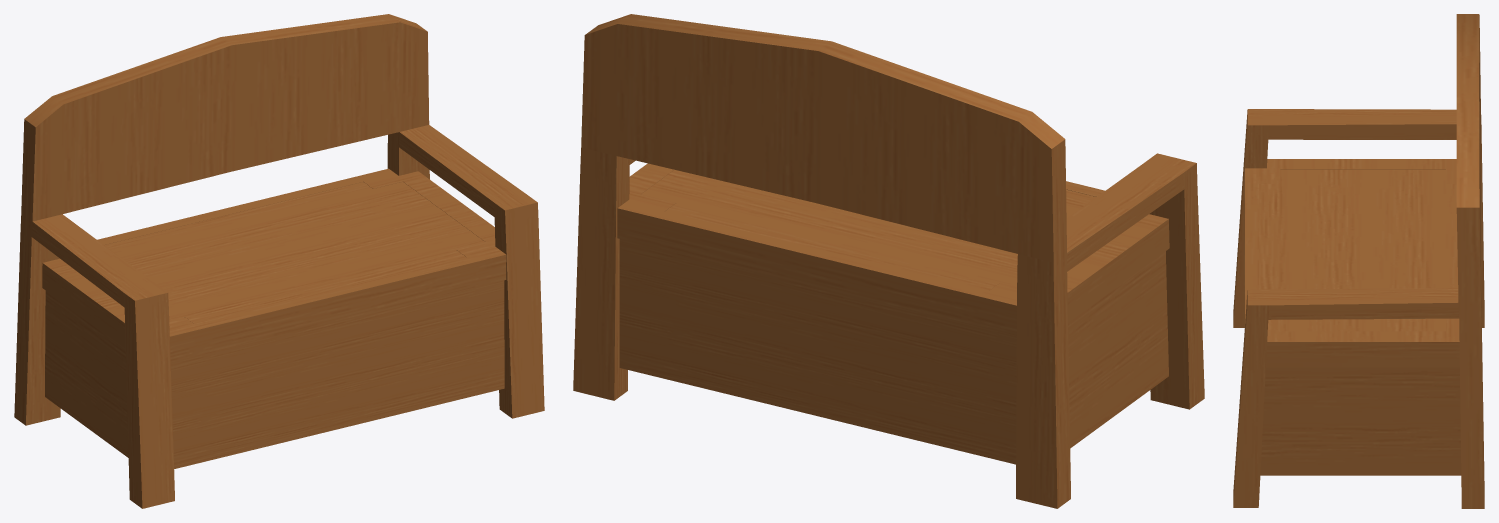
Rendered from Deacon_Bench_G.FBX.
3 views of the same model, side by side, from view 1: azimuth 30°, elevation 25°; view 2: azimuth 150°, elevation 25°; view 3: azimuth 270°, elevation 25° (orthographic). The views are drawn at different scales.
Parts seen in each view (by area): view 1: Deacon_Bench, Lid; view 2: Deacon_Bench, Lid; view 3: Deacon_Bench, Lid.
Part boxes in pixels (<box>): Deacon_Bench: <box>14,14,544,508</box>; Lid: <box>104,182,485,323</box>; Deacon_Bench: <box>573,14,1204,508</box>; Lid: <box>641,169,1096,290</box>; Deacon_Bench: <box>1233,14,1484,508</box>; Lid: <box>1259,169,1458,331</box>.
Size of the model in its own units: 248 by 194 by 133.
